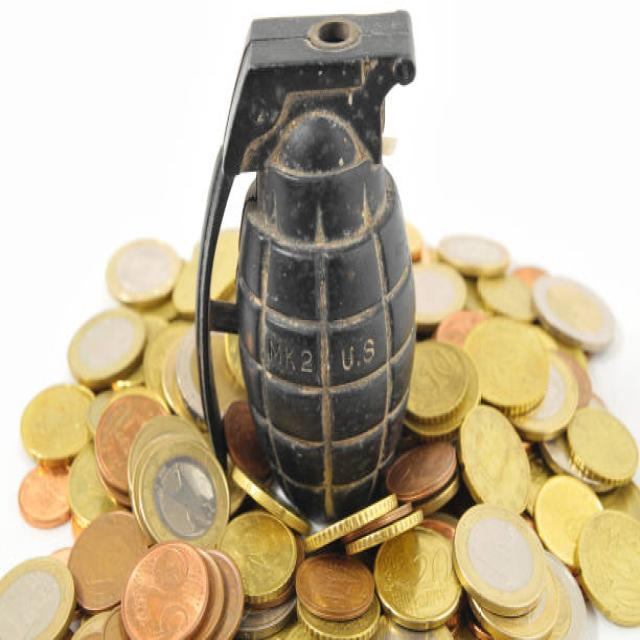grenade: (192, 1, 438, 530)
